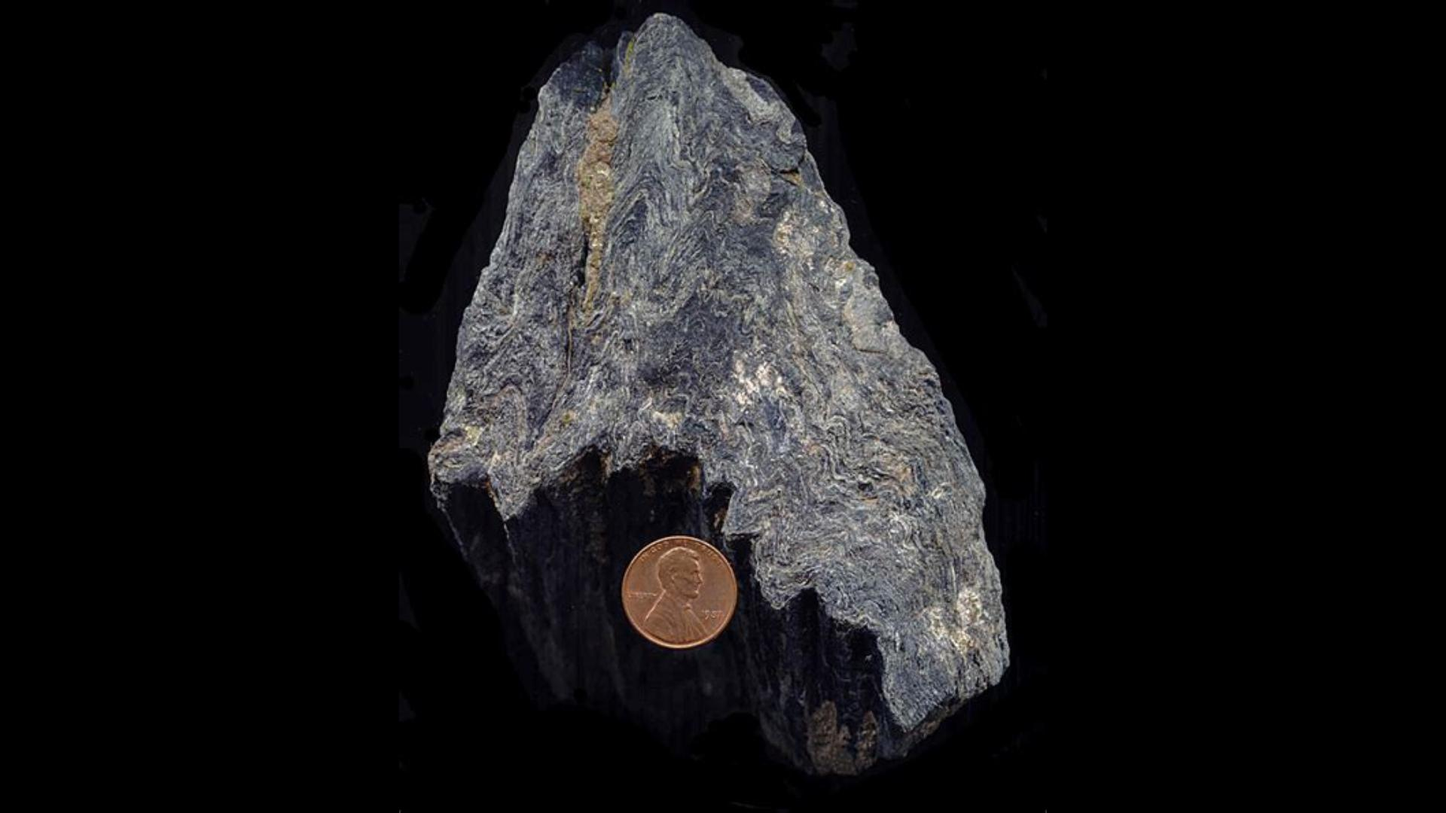rock: (432, 15, 1001, 771)
